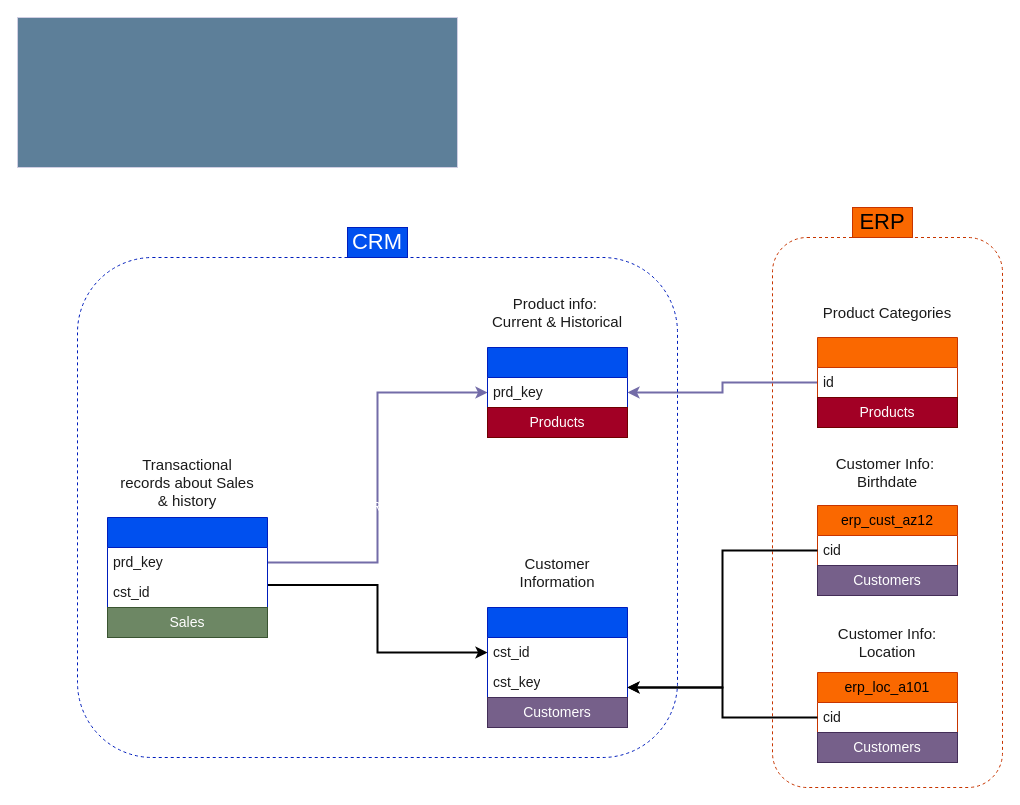
This 1020x805 diagram has some shape labels left out. The box of each missing label's shape, as (x1, y1, x2, y2) in pixels:
crm_cust_info: (486, 606, 628, 698)
crm_prd_info: (486, 346, 628, 408)
crm_sales_details: (106, 516, 268, 608)
erp_cat_px_g1v2: (816, 336, 958, 398)
INTEGRATION MODEL (How tables are related): (16, 16, 458, 168)
